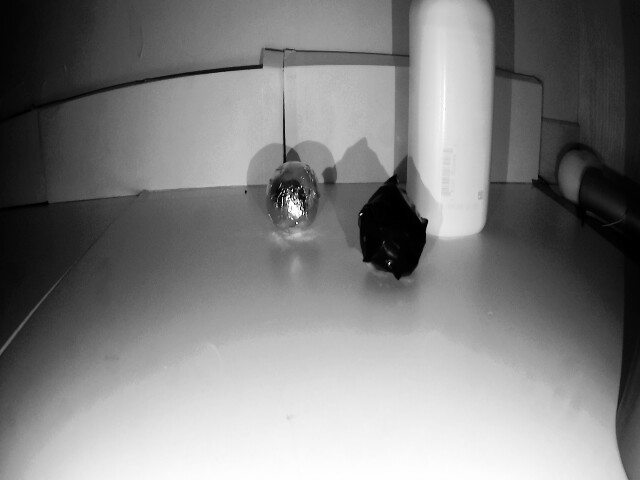black: (358, 177, 433, 283)
silver: (265, 156, 321, 240)
